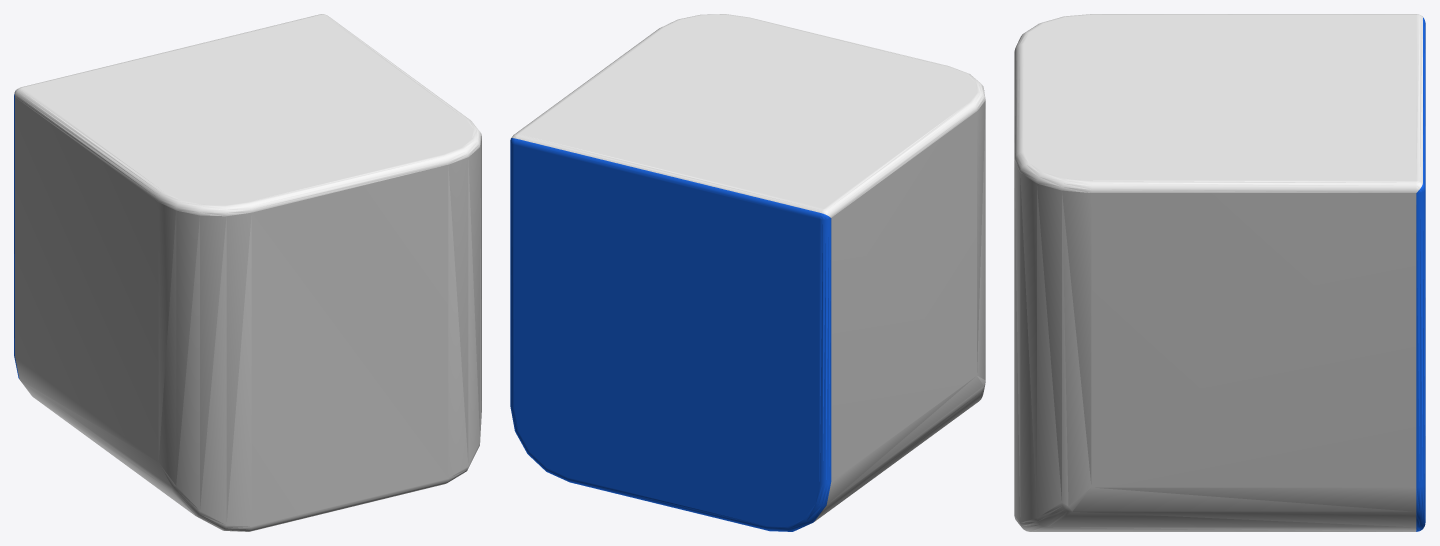
3 views of the same model, side by side, from view 1: azimuth 30°, elevation 25°; view 2: azimuth 150°, elevation 25°; view 3: azimuth 270°, elevation 25° (orthographic). The views are drawn at different scales.
Parts seen in each view (by area): view 1: edge_UB; view 2: edge_UB; view 3: edge_UB.
Part boxes in pixels (left/top/right/bottom): edge_UB: left=14, top=14, right=481, bottom=531; edge_UB: left=510, top=14, right=985, bottom=531; edge_UB: left=1014, top=14, right=1425, bottom=531.
Size of the model in its own units: 0.2003 by 0.2003 by 0.2003.
Materials: 1 (1 with a texture image).
